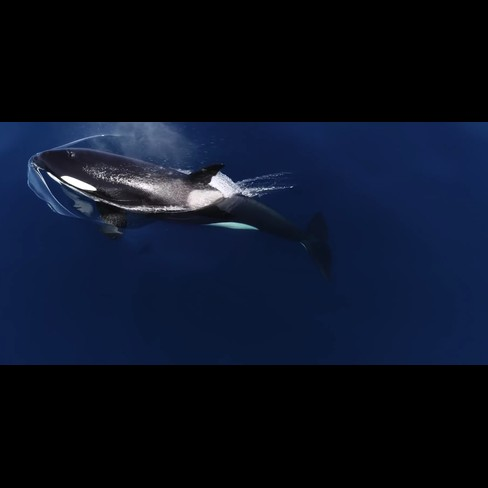orca: (25, 135, 349, 283)
